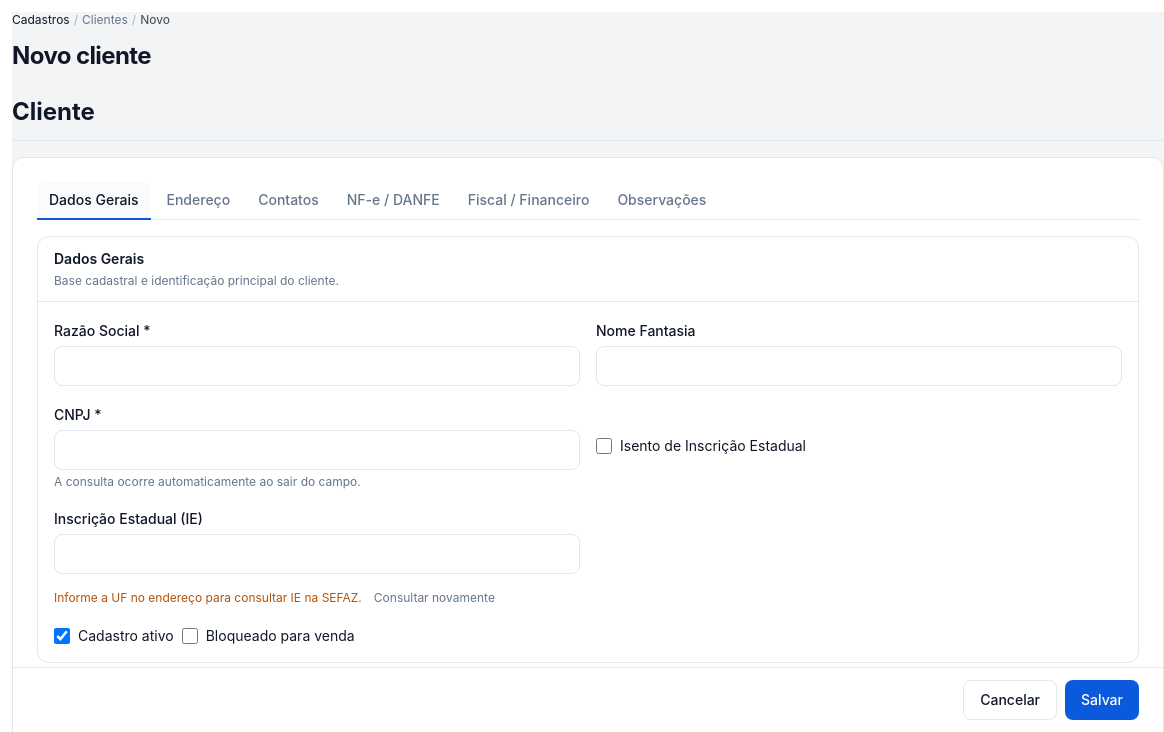
Test case: ClienteFormPage — CNPJ duplicado › zero matches: mensagem principal permanece, orientação de listagem, sem link
Type "Cliente Teste LTDA" into the field labelled "Razão Social *" at [317, 366], box [54,346,580,386]
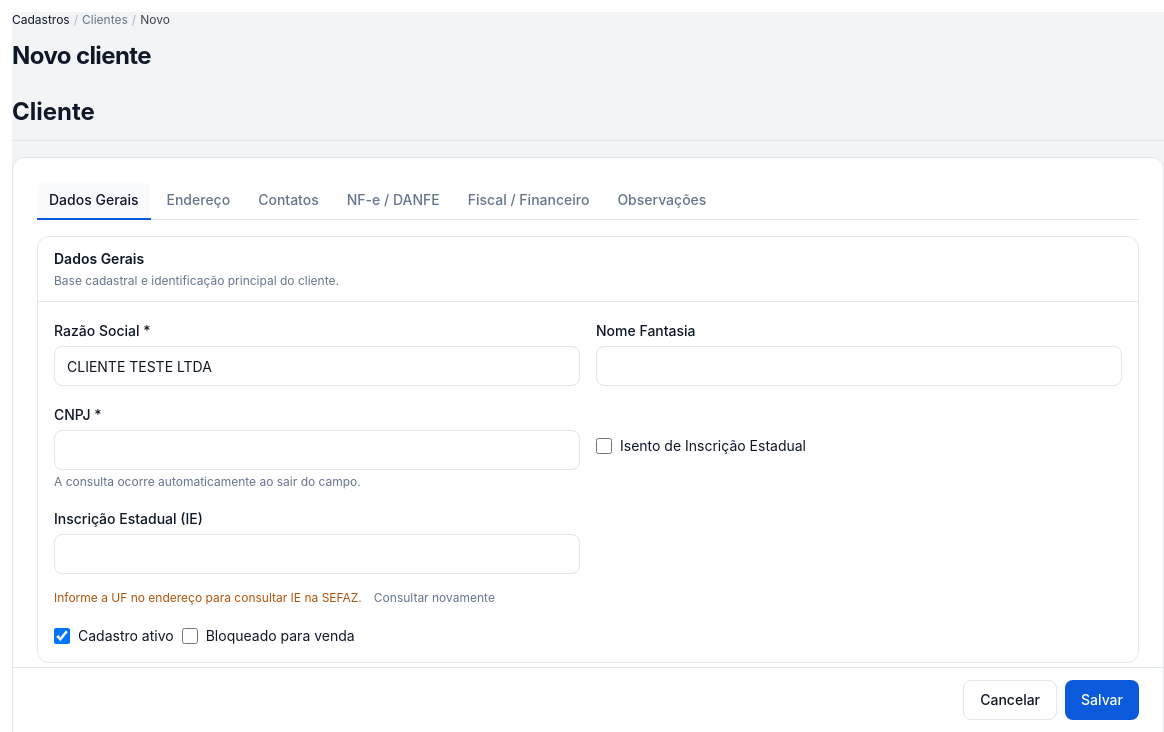
Type "04.252.011/0001-10" into the field labelled "CNPJ *" at [317, 450], box [54,430,580,470]
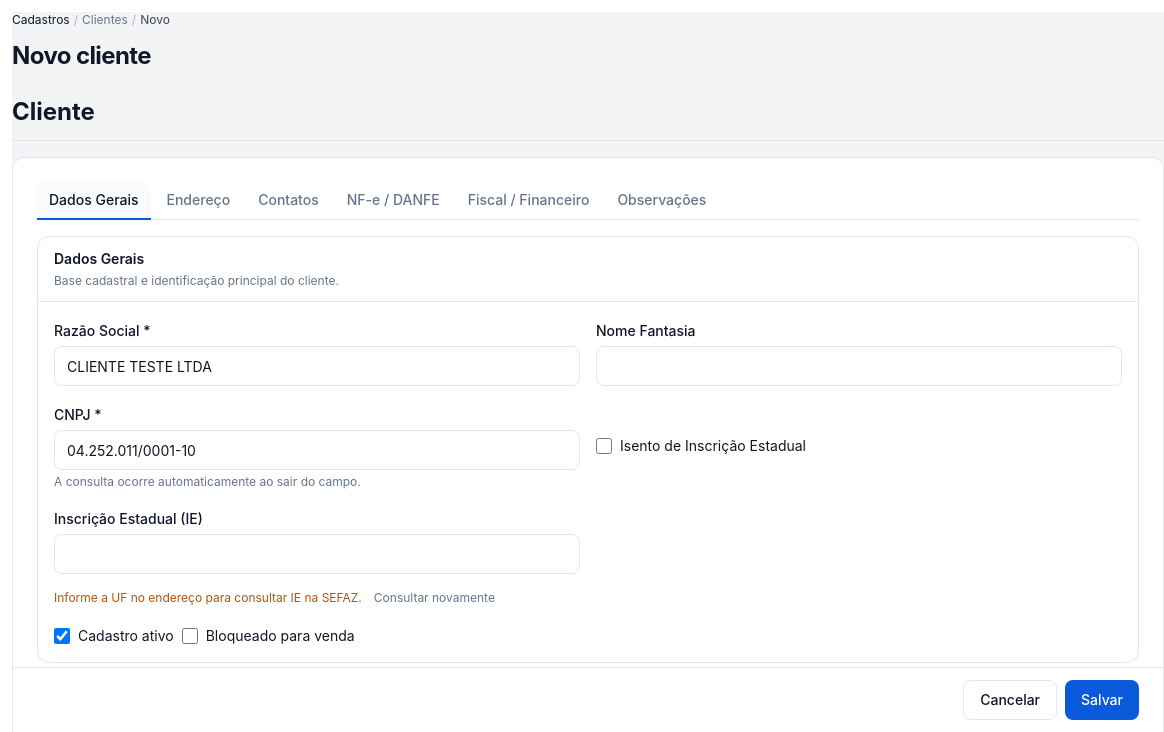
Click the button "Salvar" at [1102, 700], box [1065,680,1139,720]
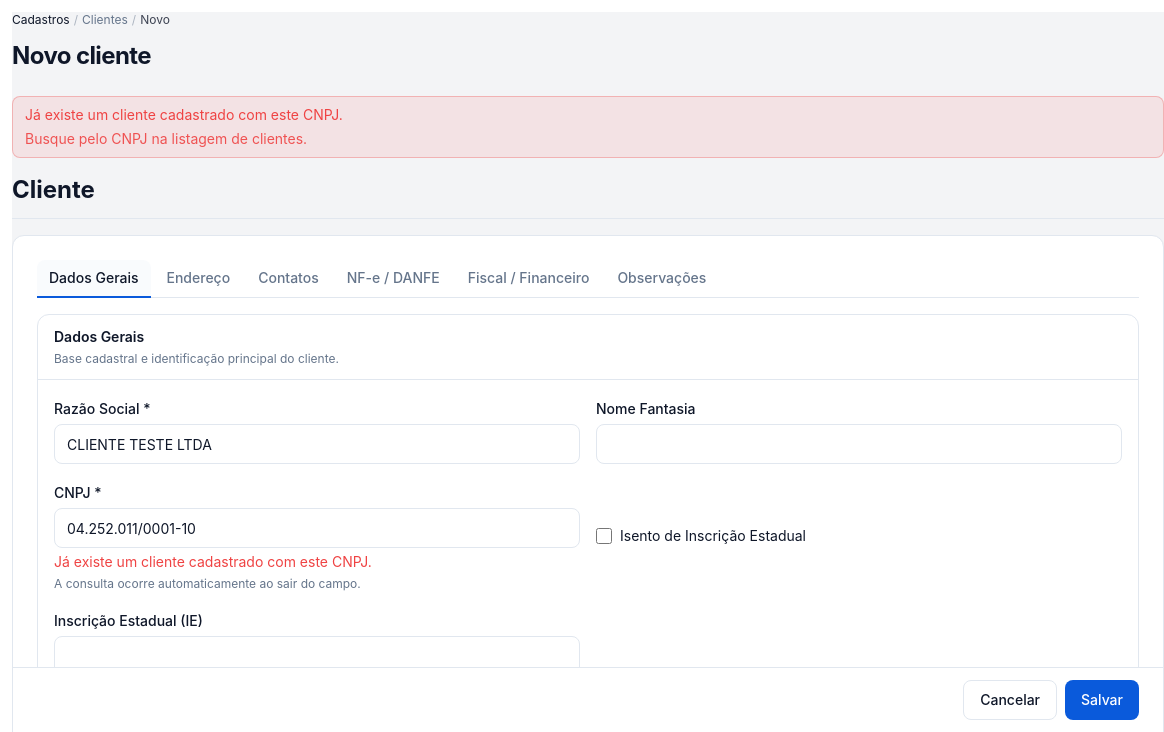
Expected: the text with test id "cliente-form-save-error-main" reads "Já existe um cliente cadastrado com este CNPJ.", [25,106,343,123]
Expected: the text with test id "cliente-form-save-error-hint" reads "Busque pelo CNPJ na listagem de clientes.", [25,130,307,147]
